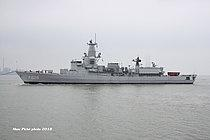MIL_Ship: (14, 39, 197, 84)
